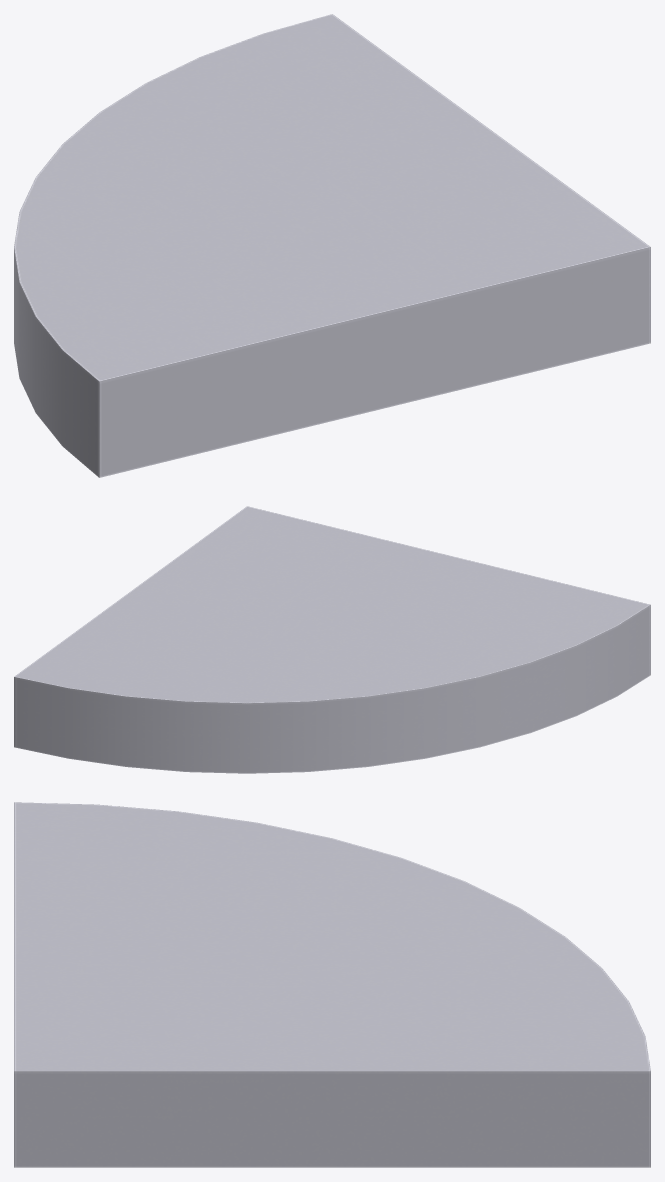
Rendered from Floor_02.FBX.
The picture shows the model from 3 angles, top to bottom: view 1: azimuth 30°, elevation 25°; view 2: azimuth 150°, elevation 25°; view 3: azimuth 270°, elevation 25°; orthographic projection. The views are drawn at different scales.
Visible parts, largest first — view 1: Floor_02; view 2: Floor_02; view 3: Floor_02.
Boxes of the visible parts, x1,y1,x2,y2 form: Floor_02: (14,14,650,477); Floor_02: (14,506,650,773); Floor_02: (14,802,650,1167).
Bounding box in the file's own units: 6 × 1 × 6.
1 material, 1 textured.
